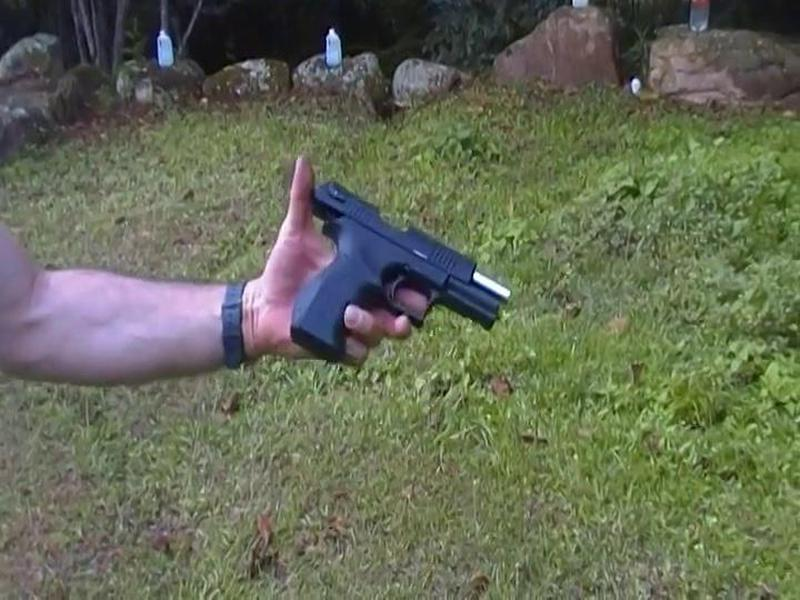Pistola: (278, 176, 533, 370)
